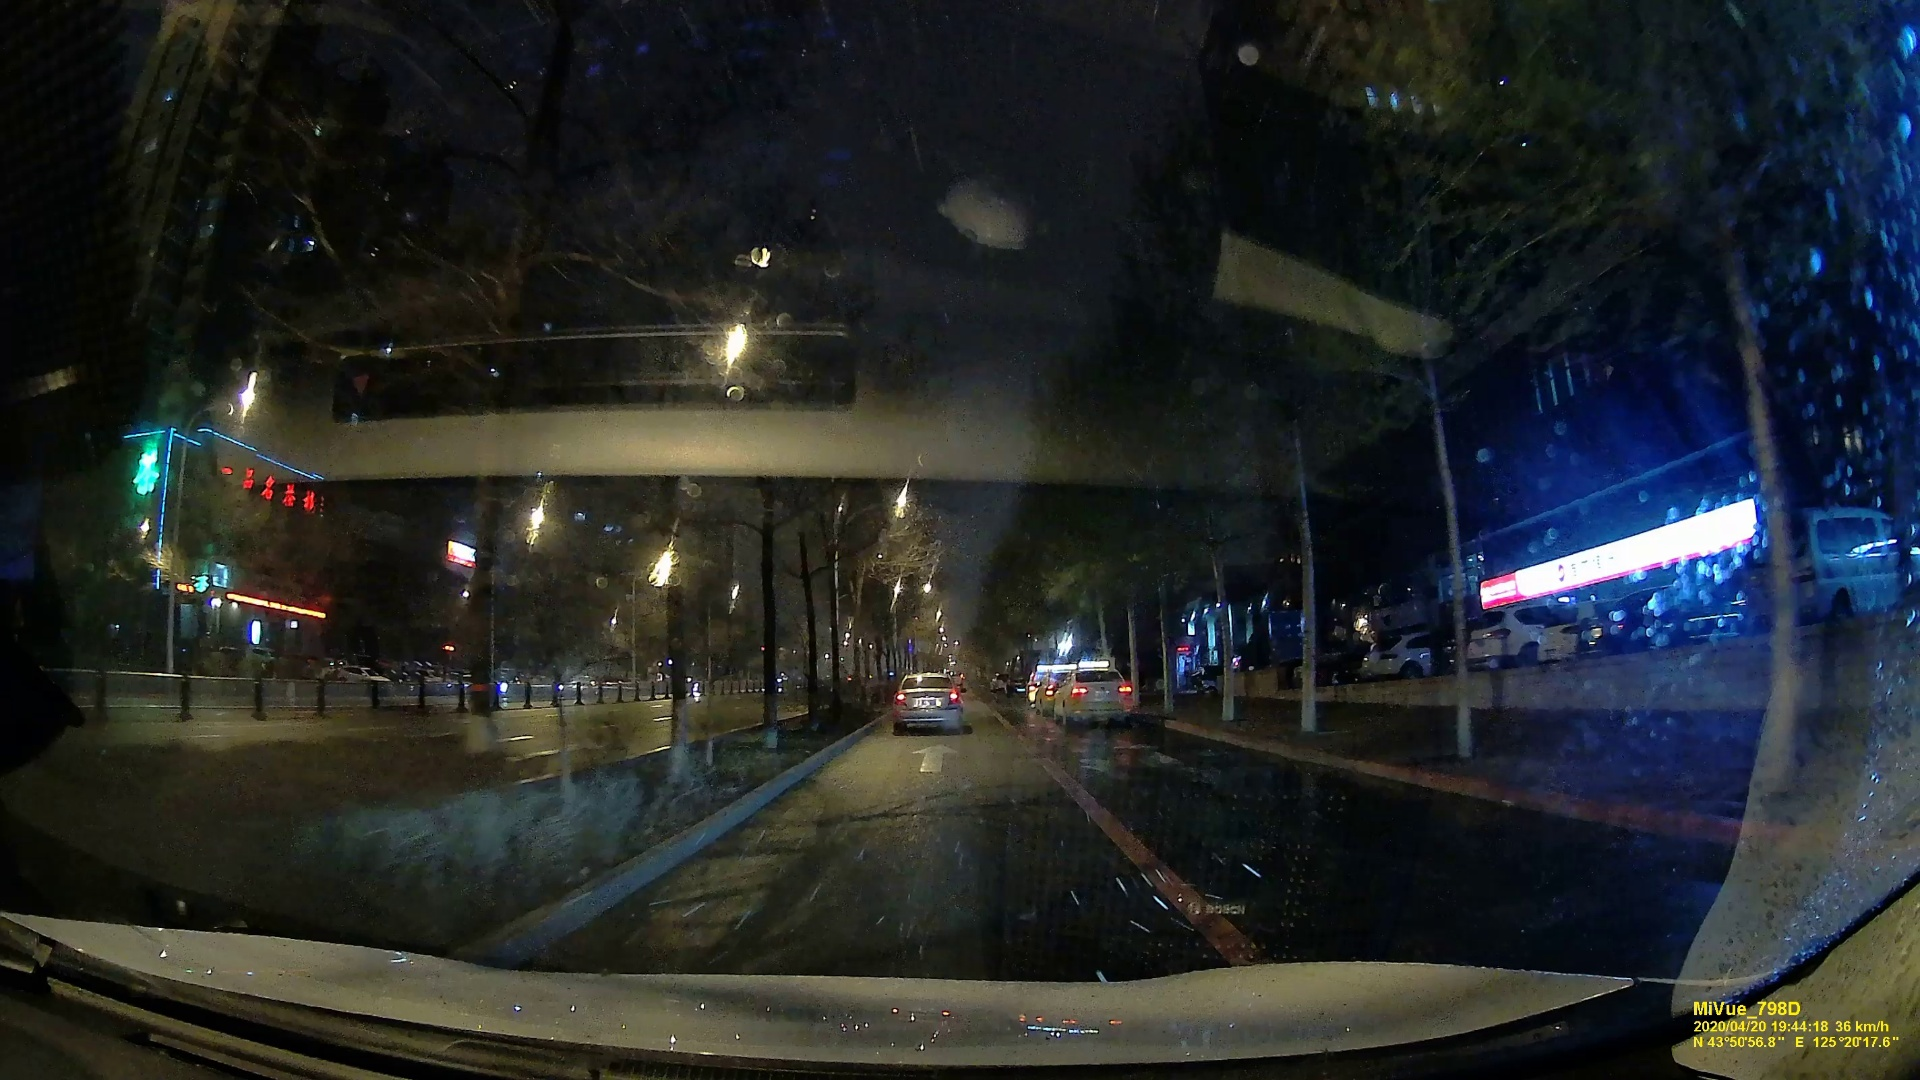minibus: (1735, 504, 1909, 628)
vehicle: (1051, 665, 1135, 725), (891, 673, 965, 735)
